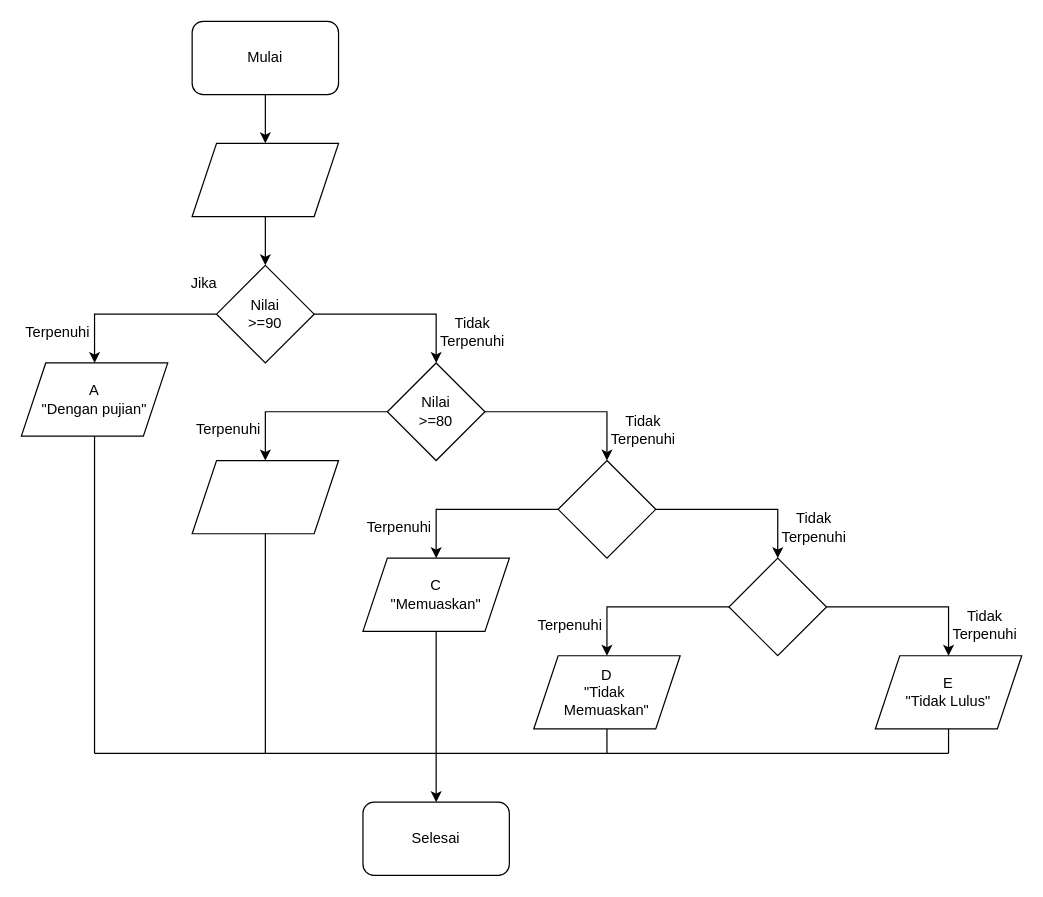
The diagram is 1043 pixels wide and 897 high, and some of its shapes have lost their labels. The shapes that lost their labels are listed below. From the top down, each one's centre as x and y in pixels, then its label:
(265,179): Input
(265,496): B "Sangat Memuaskan"
(606,508): Nilai >=70
(777,606): Nilai >=60
